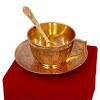cup: (26, 22, 76, 67)
